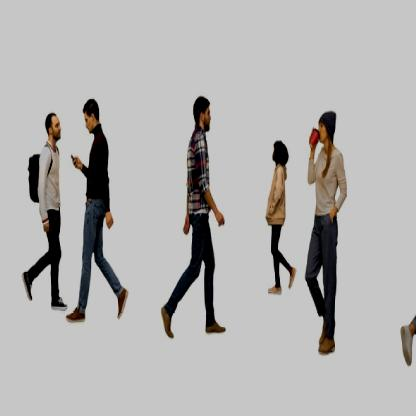jean: (159, 96, 229, 341), (63, 89, 130, 330), (300, 102, 349, 356), (18, 104, 70, 314), (263, 132, 297, 303)
